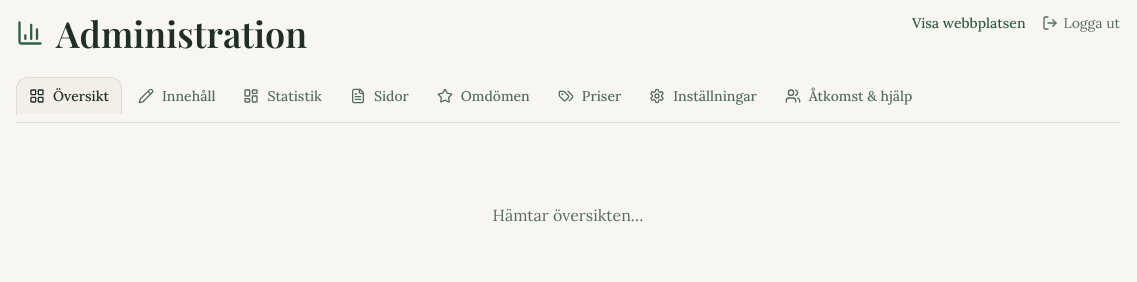
Scenario: admin session gate › shows a statistics error instead of presenting failed requests as zero clicks
Click the tab "Statistik". click: click(283, 96)
box: [231,77,334,114]
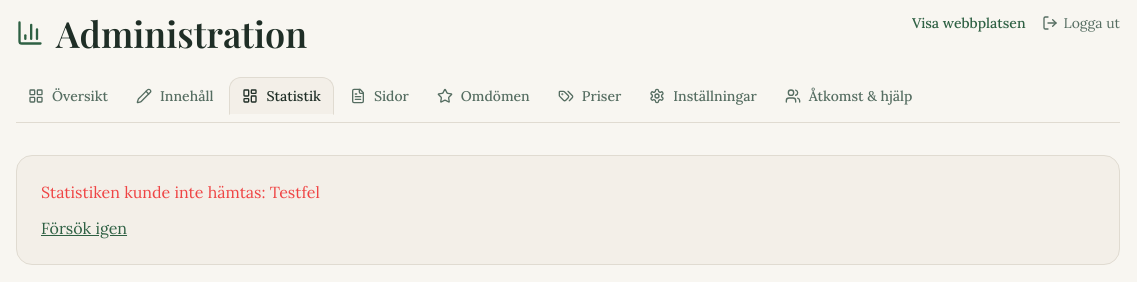
Now the message shows "Statistiken kunde inte hämtas: Testfel", box [16,155,1120,265]
